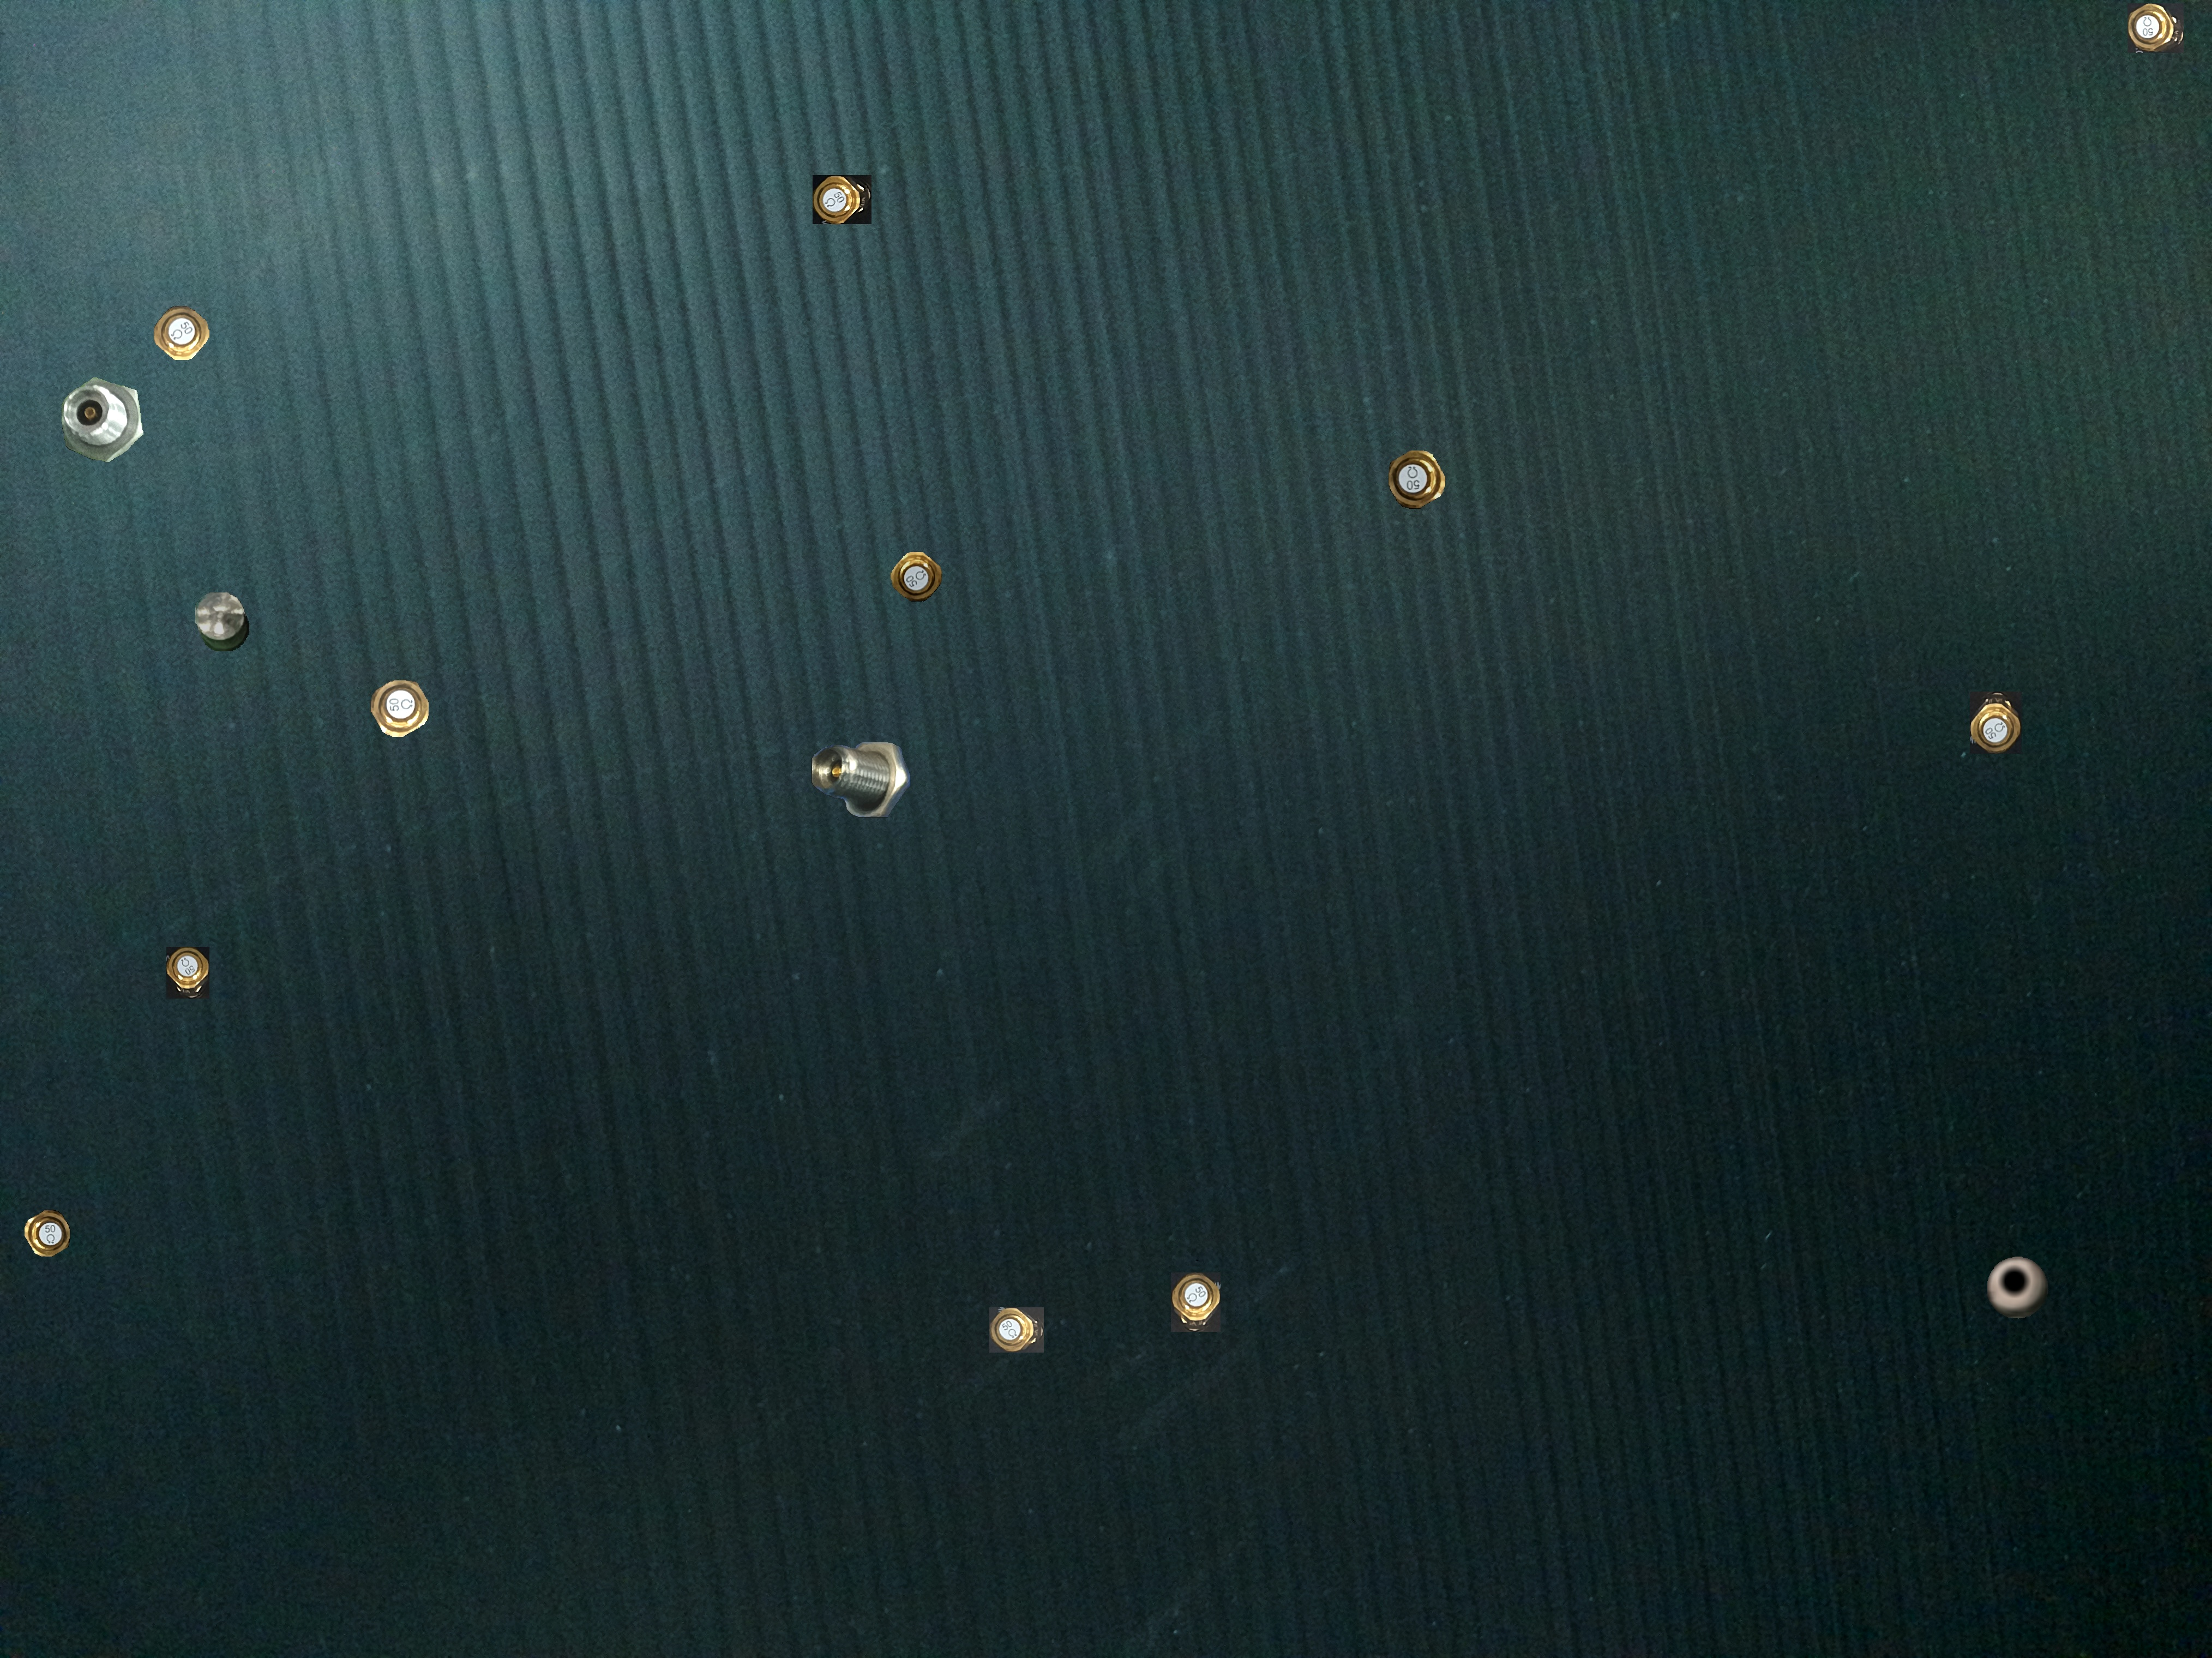Cgoldcap: (1388, 450, 1445, 508), (370, 680, 428, 736), (1970, 692, 2021, 753), (154, 306, 209, 359), (1171, 1272, 1220, 1331), (813, 175, 871, 224), (2127, 3, 2183, 52), (891, 552, 941, 601), (989, 1307, 1043, 1352), (166, 947, 209, 998), (25, 1210, 70, 1256)
Cpin_wNut: (812, 742, 910, 817), (62, 377, 143, 461)
